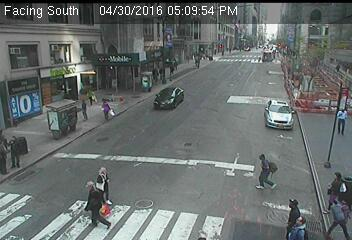neg: (41, 95, 74, 139), (256, 93, 289, 136), (154, 98, 183, 135), (224, 91, 247, 122), (11, 58, 33, 87), (109, 42, 131, 71), (180, 182, 201, 210), (203, 35, 224, 63), (239, 32, 260, 60), (302, 49, 320, 73), (61, 45, 78, 68), (129, 190, 146, 212), (128, 77, 143, 97)
pos: (74, 182, 106, 225), (250, 150, 277, 186), (6, 132, 32, 166), (325, 168, 350, 202), (326, 198, 350, 230), (276, 192, 299, 223), (329, 107, 348, 133), (95, 166, 113, 190), (291, 215, 307, 236), (97, 98, 113, 119), (85, 88, 98, 105), (148, 66, 159, 80)
